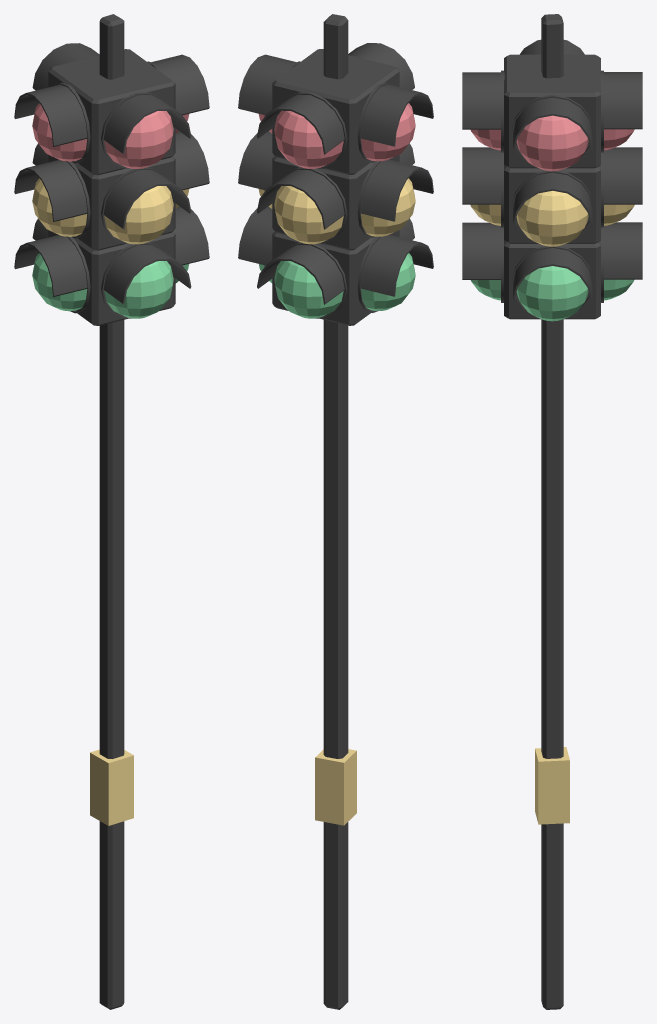
File: TrafficLight.glb
The picture shows the model from 3 angles, left to right: view 1: azimuth 30°, elevation 25°; view 2: azimuth 150°, elevation 25°; view 3: azimuth 270°, elevation 25°; orthographic projection.
Parts seen in each view (by area): view 1: PedTrLightsright2, Plane, PedTrLightsright2.001, PedTrLightsright2.002, Cube; view 2: PedTrLightsright2, Plane, PedTrLightsright2.001, PedTrLightsright2.002, Cube; view 3: PedTrLightsright2, Plane, PedTrLightsright2.001, PedTrLightsright2.002, Cube.
Boxes of the visible parts, bbox=[...] form: PedTrLightsright2: bbox=[14, 43, 209, 318]; Plane: bbox=[99, 14, 124, 1009]; PedTrLightsright2.001: bbox=[32, 103, 189, 318]; PedTrLightsright2.002: bbox=[48, 49, 175, 325]; Cube: bbox=[90, 749, 133, 825]; PedTrLightsright2: bbox=[238, 43, 433, 318]; Plane: bbox=[323, 14, 348, 1009]; PedTrLightsright2.001: bbox=[258, 103, 415, 318]; PedTrLightsright2.002: bbox=[272, 49, 399, 325]; Cube: bbox=[315, 749, 356, 825]; PedTrLightsright2: bbox=[462, 39, 642, 318]; Plane: bbox=[541, 14, 563, 1009]; PedTrLightsright2.001: bbox=[470, 115, 634, 321]; PedTrLightsright2.002: bbox=[504, 54, 600, 319]; Cube: bbox=[535, 747, 569, 824].
Size of the model in its own units: 0.7328 by 4.44 by 0.7328.
